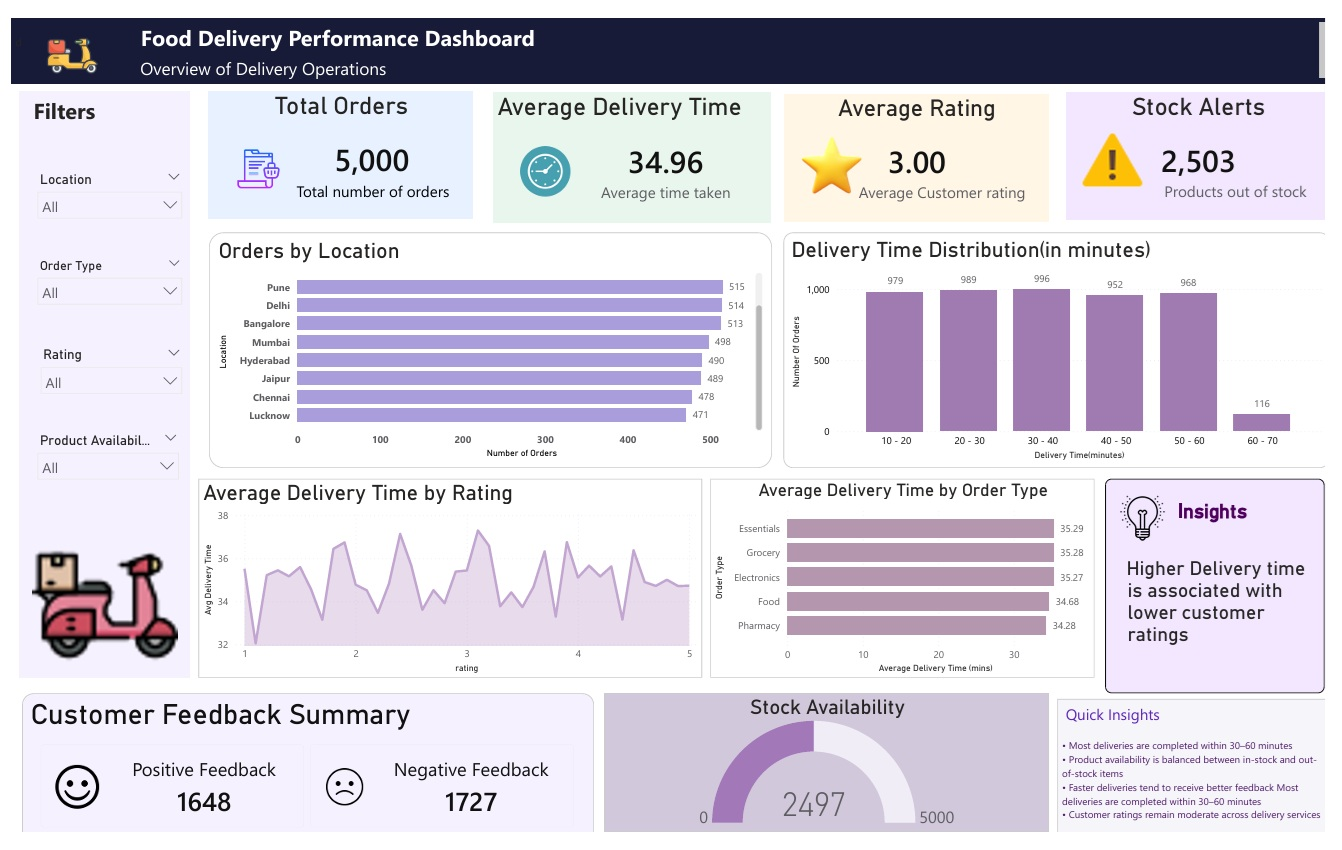

This screenshot's page, from the dashboard's own definition file:
{"tool":"powerbi","page":{"name":"Dashboard","canvas":[1616,1000],"ordinal":0},"visuals":[{"type":"textbox","box":[0,0,1216.7,50],"z":0},{"type":"textbox","box":[0,0,1622.9,80],"z":0,"group":"g12"},{"type":"textbox","box":[22.1,90,197.9,59.2],"z":0,"group":"g5"},{"type":"cardVisual","title":"Average Delivery Time","fields":{"Data":["Avg(cleaned data of assignment.delivery_time_min)"]},"box":[592.9,91.4,342.1,159.9],"z":0,"group":"g4"},{"type":"cardVisual","title":"Average Rating","fields":{"Data":["Avg(cleaned data of assignment.rating)"]},"box":[951.6,92.9,325,157],"z":0,"group":"g9"},{"type":"group","id":"g1","title":"Group 1","box":[0,0,1622.5,80],"z":1000},{"type":"image","box":[12.4,12.2,125.1,67.8],"z":1000,"group":"g12"},{"type":"image","box":[948.6,136.7,121.1,85.6],"z":1000,"group":"g9"},{"type":"slicer","fields":{"Values":["cleaned data of assignment.location"]},"box":[22.1,181.6,197.9,87.5],"z":1000,"group":"g5"},{"type":"group","id":"g2","title":"Group 3","box":[0,0,1622.9,80],"z":1009,"group":"g1"},{"type":"group","id":"g3","title":"Group 5","box":[592.9,91.4,342.1,159.9],"z":1012,"group":"g6"},{"type":"group","id":"g4","title":"Group 6","box":[592.9,91.4,342.1,159.9],"z":1012,"group":"g3"},{"type":"group","id":"g5","title":"Group 2","box":[10,90,210,721.7],"z":2000},{"type":"slicer","fields":{"Values":["cleaned data of assignment.order_type"]},"box":[22.1,289.3,197.9,88.9],"z":2000,"group":"g5"},{"type":"cardVisual","title":"Total Orders","fields":{"Data":["CountNonNull(cleaned data of assignment.agent _name)"]},"box":[242.9,90,325.7,157.1],"z":3000},{"type":"slicer","fields":{"Values":["cleaned data of assignment.rating"]},"box":[26.5,398.3,193.5,82.1],"z":3000,"group":"g5"},{"type":"group","id":"g6","title":"Group 4","box":[592.9,91.4,341.4,158.6],"z":4000},{"type":"slicer","fields":{"Values":["cleaned data of assignment.product _availability"]},"box":[21.9,502.5,194.6,73.5],"z":4000,"group":"g5"},{"type":"group","id":"g7","title":"Group 7","box":[948.6,92.9,328.6,155.7],"z":5000},{"type":"image","box":[10,632.6,210,179.1],"z":5000,"group":"g5"},{"type":"group","id":"g8","title":"Group 8","box":[1298.6,91.4,324.3,157.1],"z":6000},{"type":"cardVisual","title":"Stock Alerts","fields":{"Data":["CountNonNull(cleaned data of assignment.product _availability)"]},"box":[1298.6,91.4,324.3,157.1],"z":6000,"group":"g13"},{"type":"image","box":[1302.6,125.1,104.3,98.6],"z":7000,"group":"g13"},{"type":"clusteredBarChart","title":"Orders by Location","fields":{"Category":["cleaned data of assignment.location"],"Y":["cleaned data of assignment.TOTAL ORDERS"]},"box":[242.9,262.9,692.9,290],"z":7000},{"type":"group","id":"g9","title":"Group 9","box":[948.6,92.9,328,157],"z":7002,"group":"g7"},{"type":"clusteredColumnChart","title":"Delivery Time Distribution(in minutes)","fields":{"Category":["cleaned data of assignment.Delivery Time Range"],"Y":["CountNonNull(cleaned data of assignment.ID)"]},"box":[950,263.3,671.7,290],"z":8000},{"type":"areaChart","title":"Average Delivery Time by Rating","fields":{"Category":["cleaned data of assignment.rating"],"Y":["cleaned data of assignment.Avg Delivery Time"]},"box":[230,565.7,620,245.7],"z":9000},{"type":"group","id":"g10","title":"Group 10","box":[1346,566,270,264],"z":10000},{"type":"textbox","box":[1346,566,270,264],"z":10000,"group":"g10"},{"type":"image","box":[1353.6,582.1,76.4,65.5],"z":11000,"group":"g10"},{"type":"cardVisual","title":"Customer Feedback Summary","fields":{"Data":["cleaned data of assignment.Positive Feedback","cleaned data of assignment.Negative Feedback"]},"box":[13.3,830,703.3,188.3],"z":11000},{"type":"clusteredBarChart","title":"Average Delivery Time by Order Type","fields":{"Category":["cleaned data of assignment.order_type"],"Y":["Avg(cleaned data of assignment.delivery_time_min)"]},"box":[860,565.7,472.9,245.7],"z":12000},{"type":"gauge","title":"Stock Availability","fields":{"Y":["CountNonNull(cleaned data of assignment.ID)"]},"box":[730,830,546.7,170],"z":13000},{"type":"textbox","box":[1286.7,836.7,335.6,181.1],"z":14000},{"type":"group","id":"g11","title":"Group 14","box":[0,0,1622.9,80],"z":21001,"group":"g2"},{"type":"group","id":"g12","title":"Group 15","box":[0,0,1622.9,80],"z":21001,"group":"g11"},{"type":"group","id":"g13","title":"Group 12","box":[1298.6,91.4,324.3,157.1],"z":21001,"group":"g8"}]}

Visuals, with their boxes in screenshot pixels (x1, y1, x2, y2), scaled from the page's 1616x1000 canvas onto the 1342x850 screenshot:
textbox: Rect(0, 0, 1010, 42)
textbox: Rect(0, 0, 1341, 68)
textbox: Rect(18, 76, 183, 127)
"Average Delivery Time" cardVisual: Rect(492, 78, 776, 214)
"Average Rating" cardVisual: Rect(790, 79, 1060, 212)
"Group 1" group: Rect(0, 0, 1341, 68)
image: Rect(10, 10, 114, 68)
image: Rect(788, 116, 888, 189)
slicer - cleaned data of assignment.location: Rect(18, 154, 183, 229)
"Group 3" group: Rect(0, 0, 1341, 68)
"Group 5" group: Rect(492, 78, 776, 214)
"Group 6" group: Rect(492, 78, 776, 214)
"Group 2" group: Rect(8, 76, 183, 690)
slicer - cleaned data of assignment.order_type: Rect(18, 246, 183, 321)
"Total Orders" cardVisual: Rect(202, 76, 472, 210)
slicer - cleaned data of assignment.rating: Rect(22, 339, 183, 408)
"Group 4" group: Rect(492, 78, 776, 212)
slicer - cleaned data of assignment.product _availability: Rect(18, 427, 180, 490)
"Group 7" group: Rect(788, 79, 1061, 211)
image: Rect(8, 538, 183, 690)
"Group 8" group: Rect(1078, 78, 1341, 211)
"Stock Alerts" cardVisual: Rect(1078, 78, 1341, 211)
image: Rect(1082, 106, 1168, 190)
"Orders by Location" clusteredBarChart: Rect(202, 223, 777, 470)
"Group 9" group: Rect(788, 79, 1060, 212)
"Delivery Time Distribution(in minutes)" clusteredColumnChart: Rect(789, 224, 1341, 470)
"Average Delivery Time by Rating" areaChart: Rect(191, 481, 706, 690)
"Group 10" group: Rect(1118, 481, 1341, 706)
textbox: Rect(1118, 481, 1341, 706)
image: Rect(1124, 495, 1188, 550)
"Customer Feedback Summary" cardVisual: Rect(11, 706, 595, 849)
"Average Delivery Time by Order Type" clusteredBarChart: Rect(714, 481, 1107, 690)
"Stock Availability" gauge: Rect(606, 706, 1060, 849)
textbox: Rect(1069, 711, 1341, 849)
"Group 14" group: Rect(0, 0, 1341, 68)
"Group 15" group: Rect(0, 0, 1341, 68)
"Group 12" group: Rect(1078, 78, 1341, 211)
